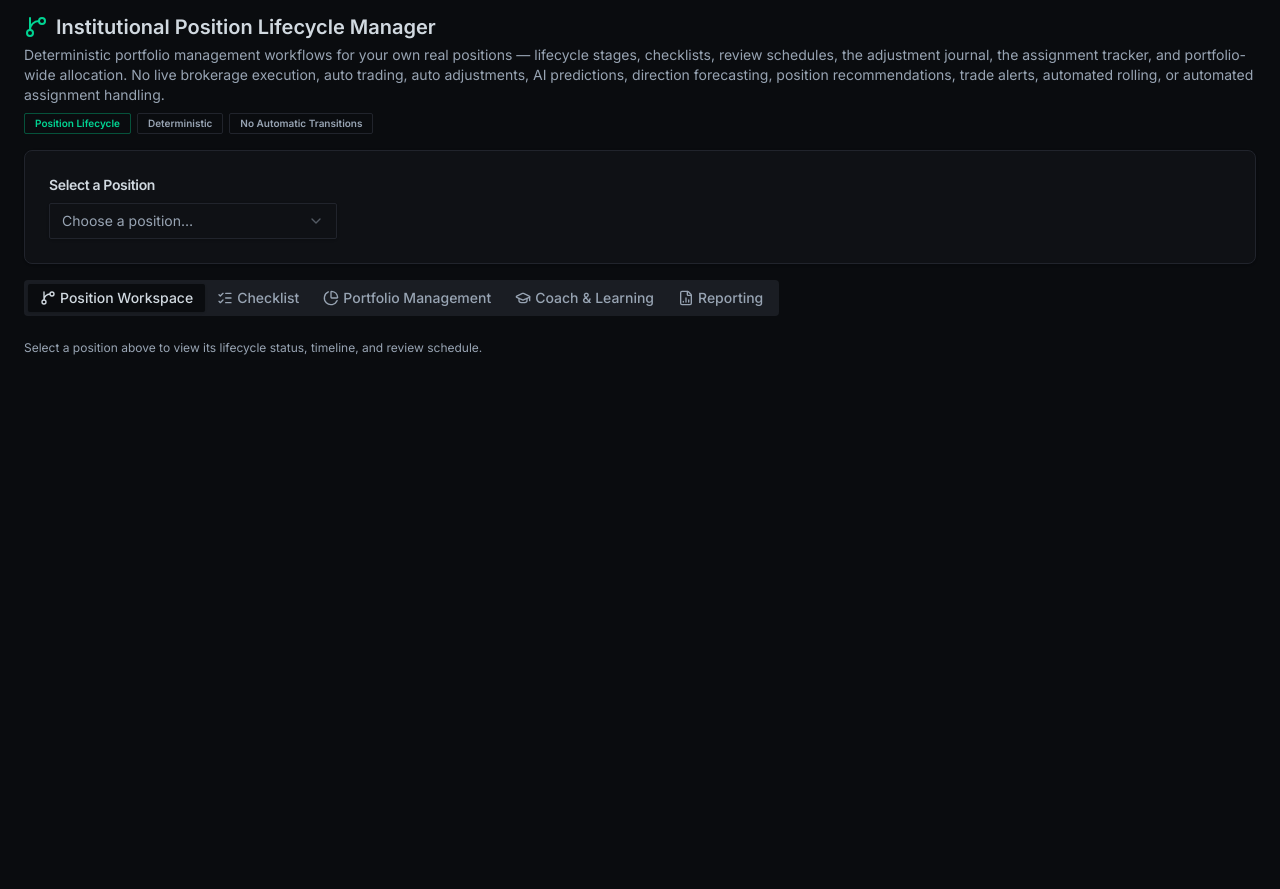
Test: OptionsLifecycleManager › the Position Timeline is honestly empty until an event is recorded, and filters into the Adjustment Journal / Assignment Tracker
The image size is (1280, 889).
Click the dropdown with test id "position-picker-select".
click(193, 221)  # box top-left (49, 203), bottom-right (337, 239)
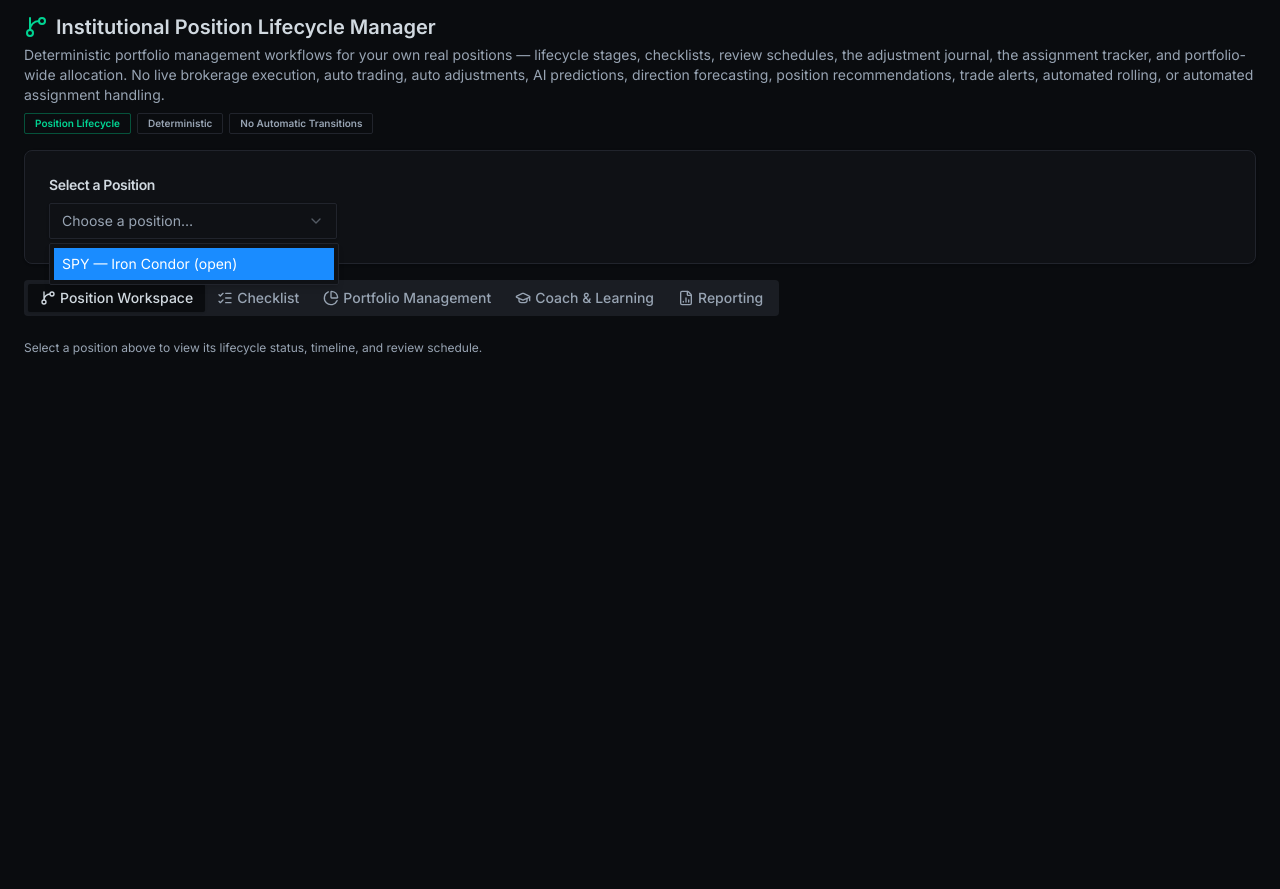
Click the option with test id "position-picker-option-1".
click(194, 264)  # box top-left (54, 248), bottom-right (334, 280)
(page scrolled)
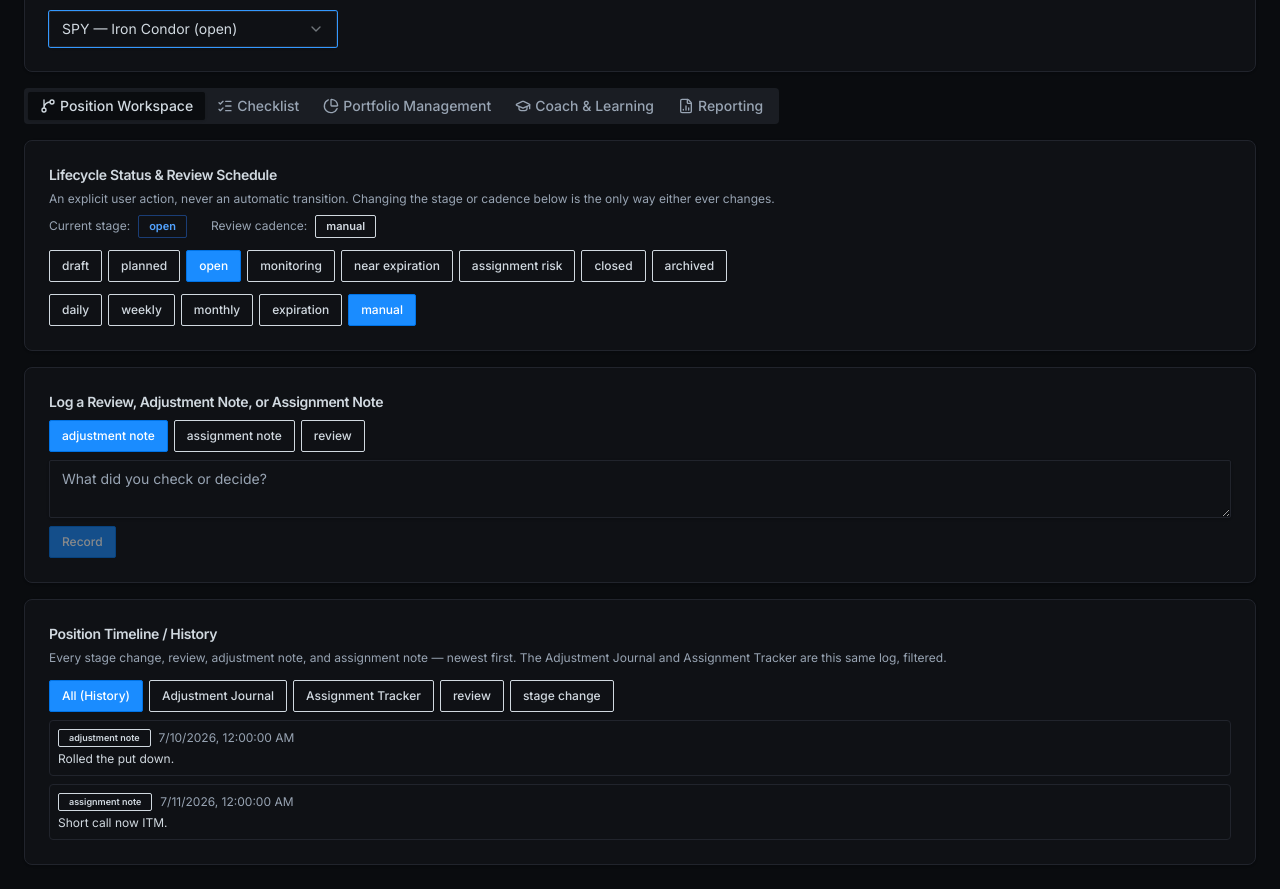
expect the list item with test id "timeline-event-1" shows "Rolled the put down.": met, box top-left (58, 750), bottom-right (174, 766)
expect the list item with test id "timeline-event-2" shows "Short call now ITM.": met, box top-left (58, 814), bottom-right (167, 830)
Click the button with test id "timeline-filter-adjustment_note".
click(218, 696)  # box top-left (149, 680), bottom-right (287, 712)
(page scrolled)
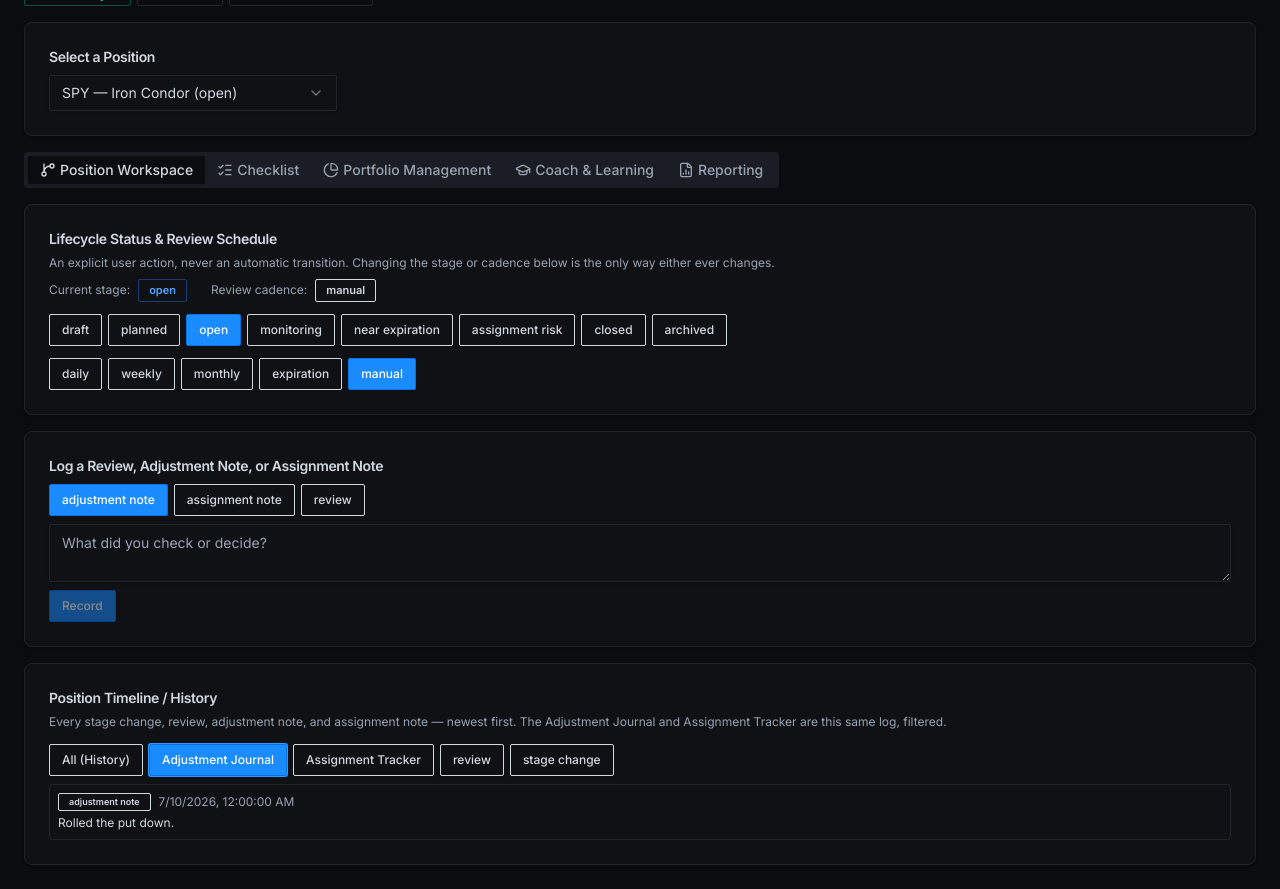
expect the list item with test id "timeline-event-1" is shown: met, box top-left (49, 784), bottom-right (1231, 840)
expect the list item with test id "timeline-event-2" is gone: met
